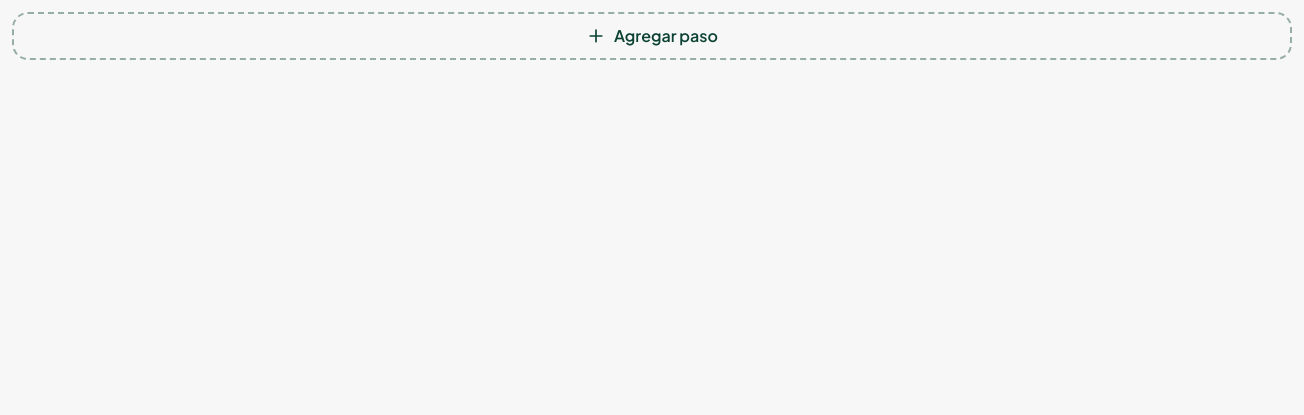
Test: adding a step › an empty title is marked and nothing is sent
Click the button "Agregar paso": (652, 36) [12,12,1292,60]
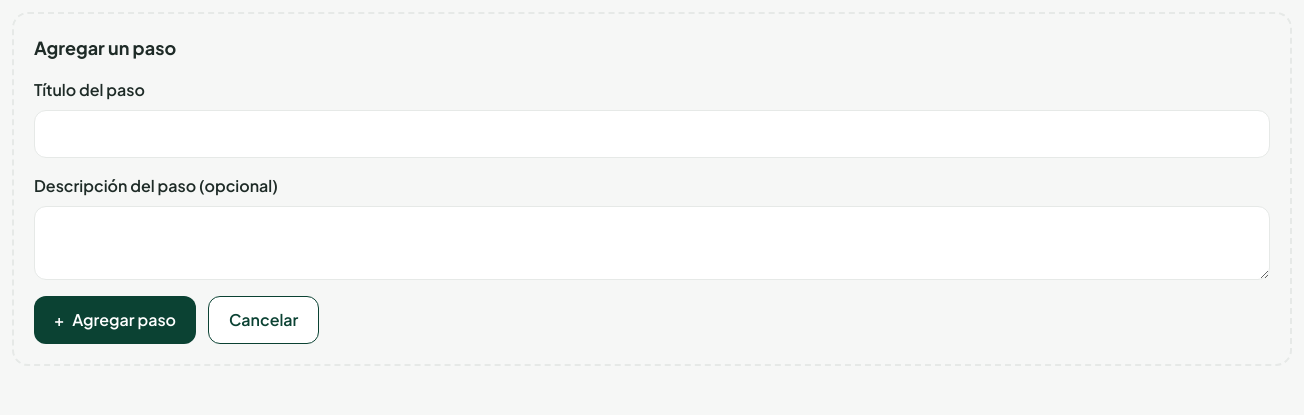
Click the button "+ Agregar paso": (115, 320) [34,296,196,344]
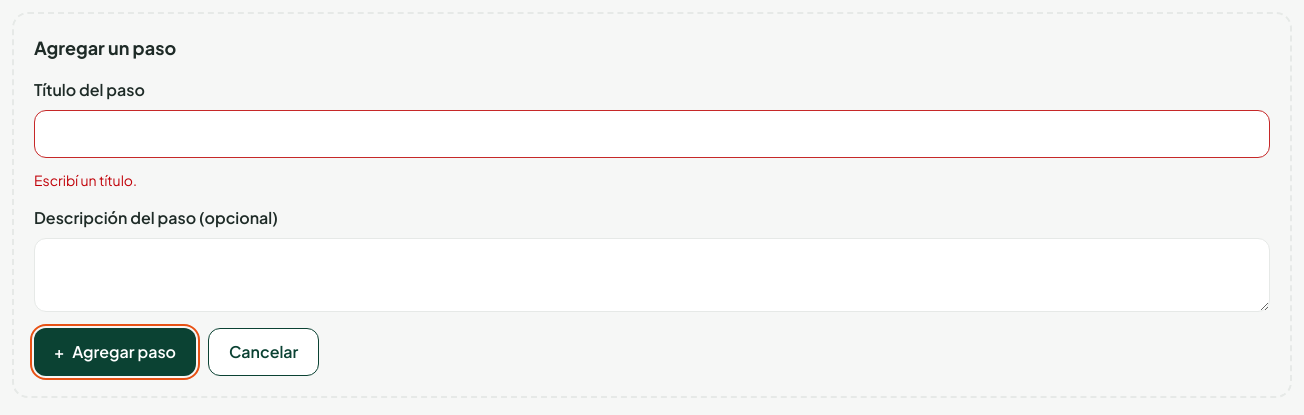
Check: the text "Escribí un título." is shown, box [34,171,137,189]
